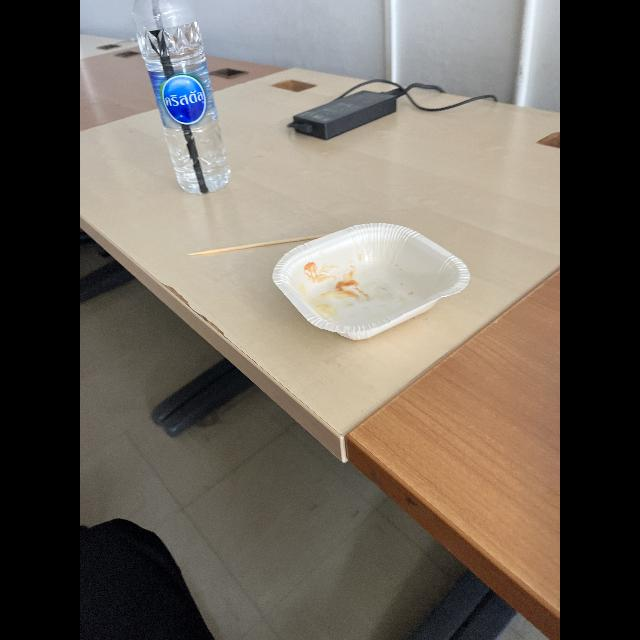cardboard_bowl: (271, 220, 474, 346)
stick: (185, 232, 321, 258)
